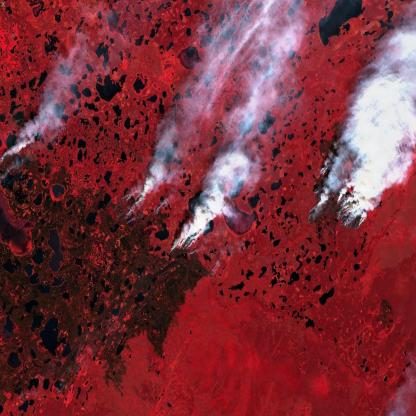fire: (303, 170, 375, 243), (164, 217, 211, 272), (113, 182, 152, 226), (0, 140, 28, 178)
